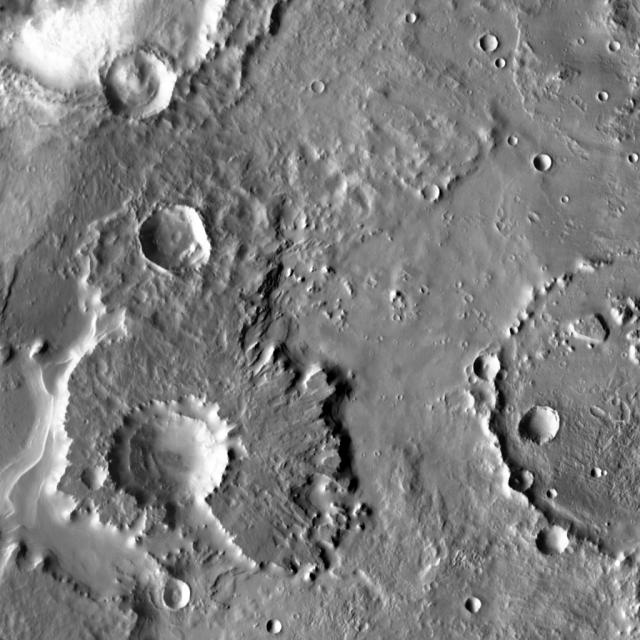crater: (0, 0, 640, 640), (116, 394, 236, 511), (109, 48, 181, 118), (146, 202, 215, 270), (526, 405, 565, 443), (542, 524, 574, 555), (167, 579, 197, 608), (479, 353, 506, 379), (86, 464, 110, 488), (515, 469, 538, 492), (539, 154, 557, 171), (428, 183, 446, 199), (486, 34, 503, 50), (272, 618, 288, 634), (471, 598, 487, 612), (316, 79, 330, 92), (502, 370, 514, 380), (412, 11, 422, 22), (616, 44, 627, 54), (598, 468, 609, 478), (534, 212, 545, 222), (502, 59, 512, 69), (607, 92, 617, 102), (398, 298, 408, 308), (555, 490, 564, 500), (474, 375, 483, 384), (548, 314, 557, 322), (420, 278, 428, 286), (374, 278, 382, 286), (502, 220, 510, 228), (495, 200, 503, 208), (473, 560, 481, 568), (514, 136, 522, 143), (471, 294, 479, 301), (429, 573, 436, 581), (560, 189, 567, 196), (576, 32, 584, 38), (454, 274, 462, 280), (574, 92, 582, 98), (596, 108, 603, 114)
